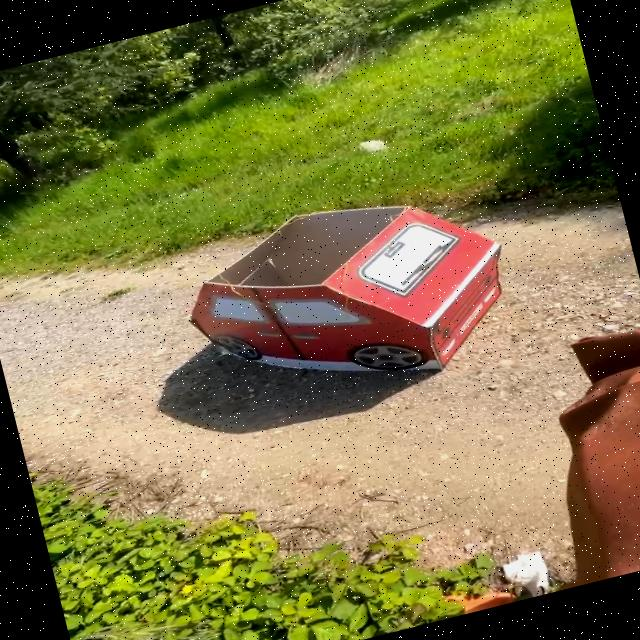red_car: (144, 159, 536, 439)
